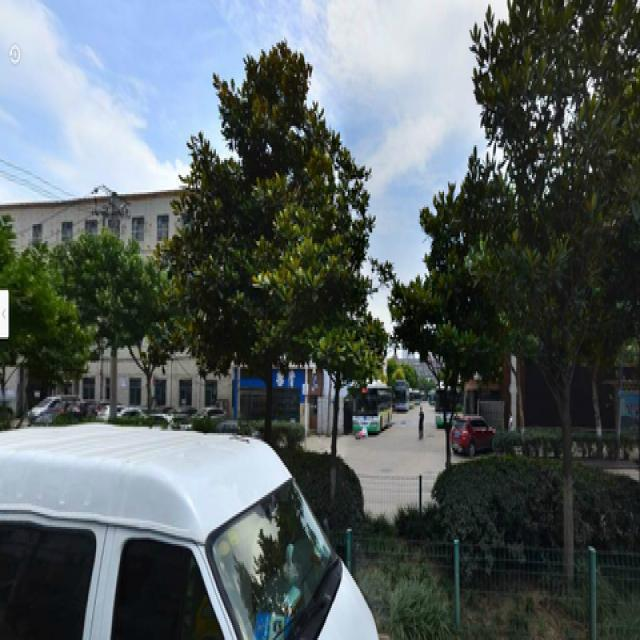magn: (178, 53, 354, 454)
